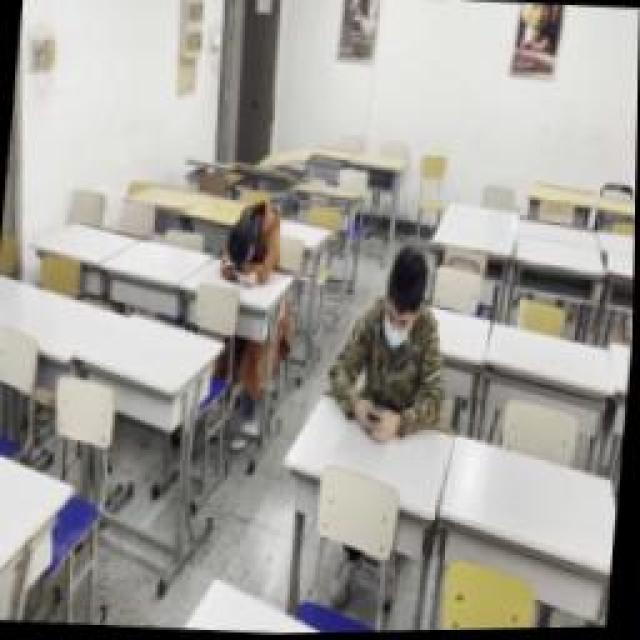phone: (320, 248, 455, 438)
sleep: (220, 200, 288, 285)
